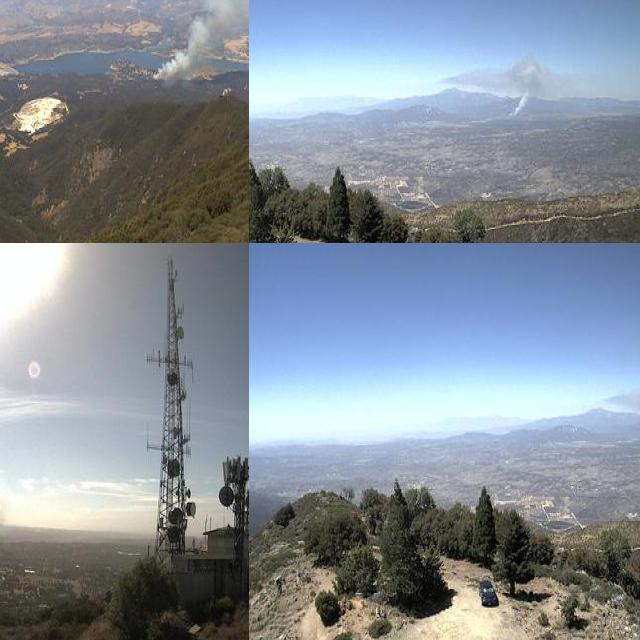smoke: (439, 53, 577, 122), (148, 0, 249, 82), (602, 380, 640, 442)
